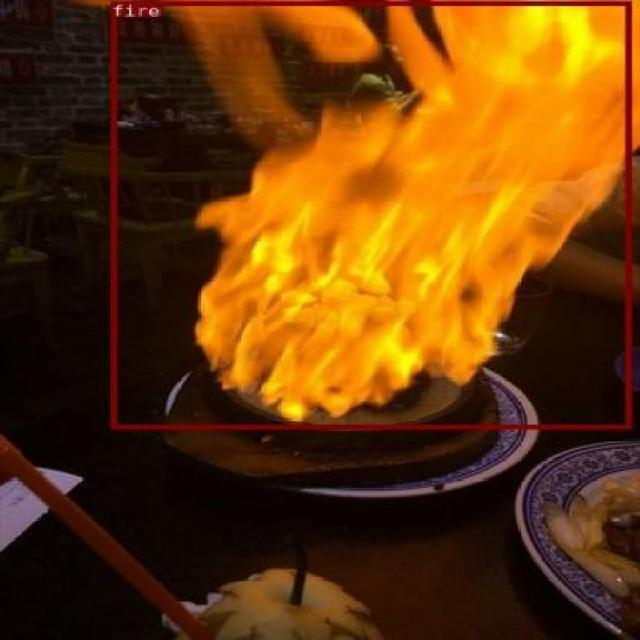Fire: (109, 0, 629, 428)
